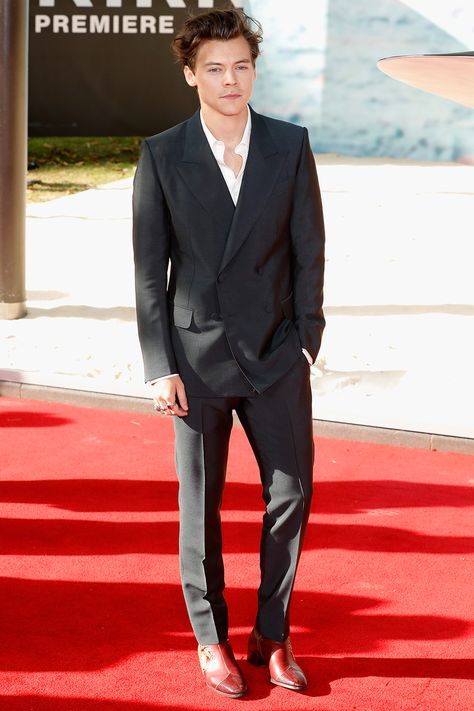person: (129, 10, 338, 702)
